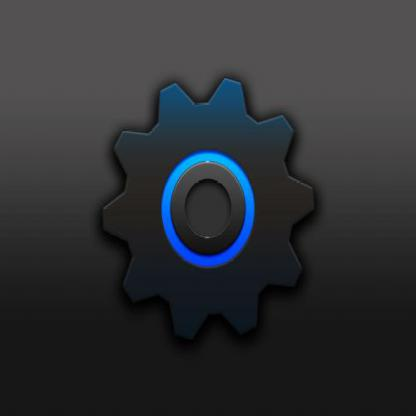FOD: (94, 75, 320, 347)
